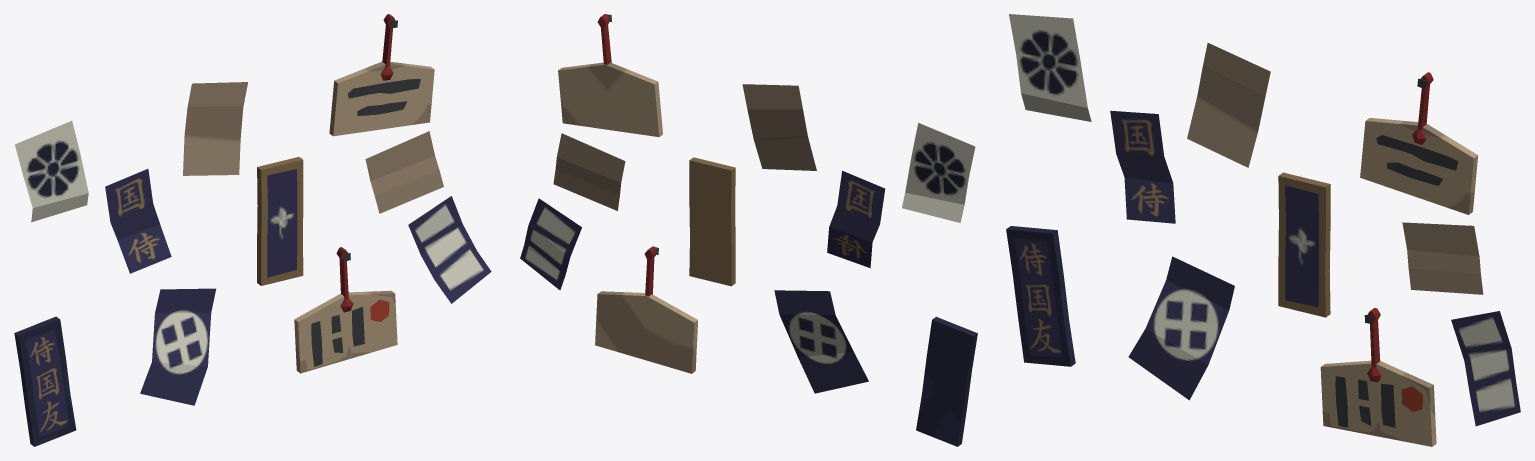
The model's file is samurai_SM_Prop_Prayer_Letters_04.gltf.
3 views of the same model, side by side, from view 1: azimuth 30°, elevation 25°; view 2: azimuth 150°, elevation 25°; view 3: azimuth 330°, elevation 25° (orthographic). The views are drawn at different scales.
Parts seen in each view (by area): view 1: SM_Prop_Prayer_Letters_04; view 2: SM_Prop_Prayer_Letters_04; view 3: SM_Prop_Prayer_Letters_04.
Part boxes in pixels (left/top/right/bottom): SM_Prop_Prayer_Letters_04: left=14, top=14, right=491, bottom=446; SM_Prop_Prayer_Letters_04: left=520, top=14, right=977, bottom=446; SM_Prop_Prayer_Letters_04: left=1006, top=14, right=1520, bottom=446.
Size of the model in its own units: 1.81 by 1.27 by 0.0768.
1 material, 1 textured.
